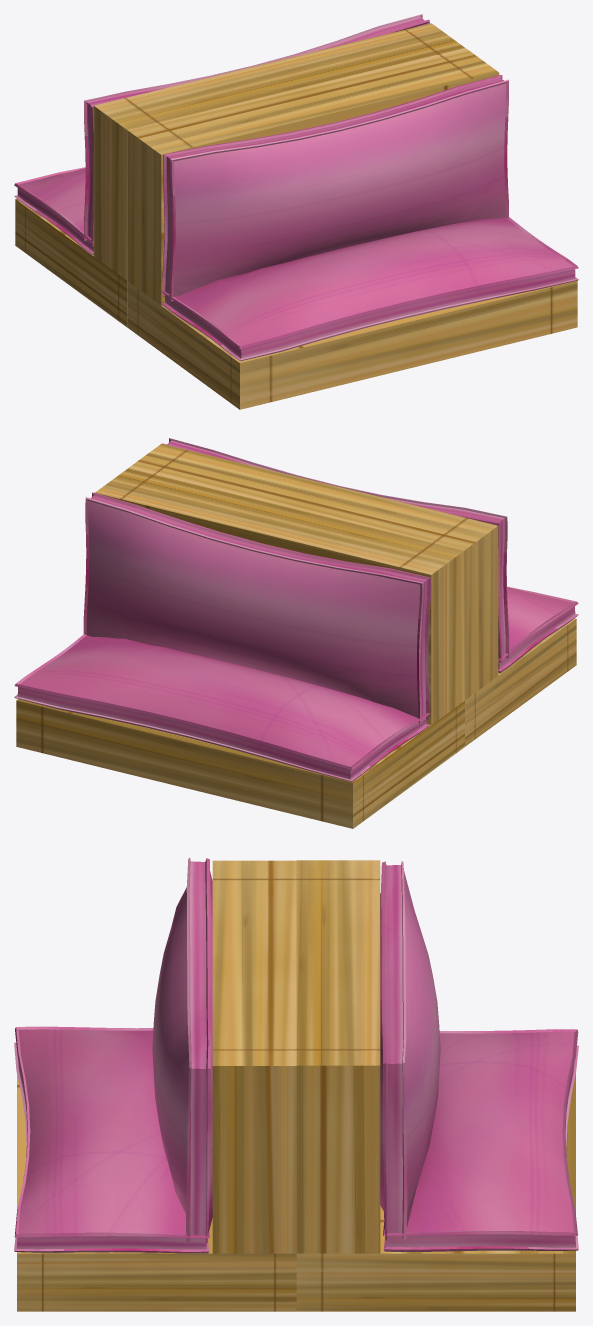
File: booth_pink.fbx
3 renders of one model, top to bottom at view 1: azimuth 30°, elevation 25°; view 2: azimuth 150°, elevation 25°; view 3: azimuth 270°, elevation 25°, orthographic. The views are drawn at different scales.
Parts seen in each view (by area): view 1: pCube50; view 2: pCube50; view 3: pCube50.
Boxes of the visible parts, left/top/right/bottom form: pCube50: left=14, top=14, right=578, bottom=409; pCube50: left=14, top=438, right=578, bottom=828; pCube50: left=14, top=857, right=578, bottom=1311.
Bounding box in the file's own units: 20.16 × 11.31 × 23.26.
3 materials, 2 textured.
